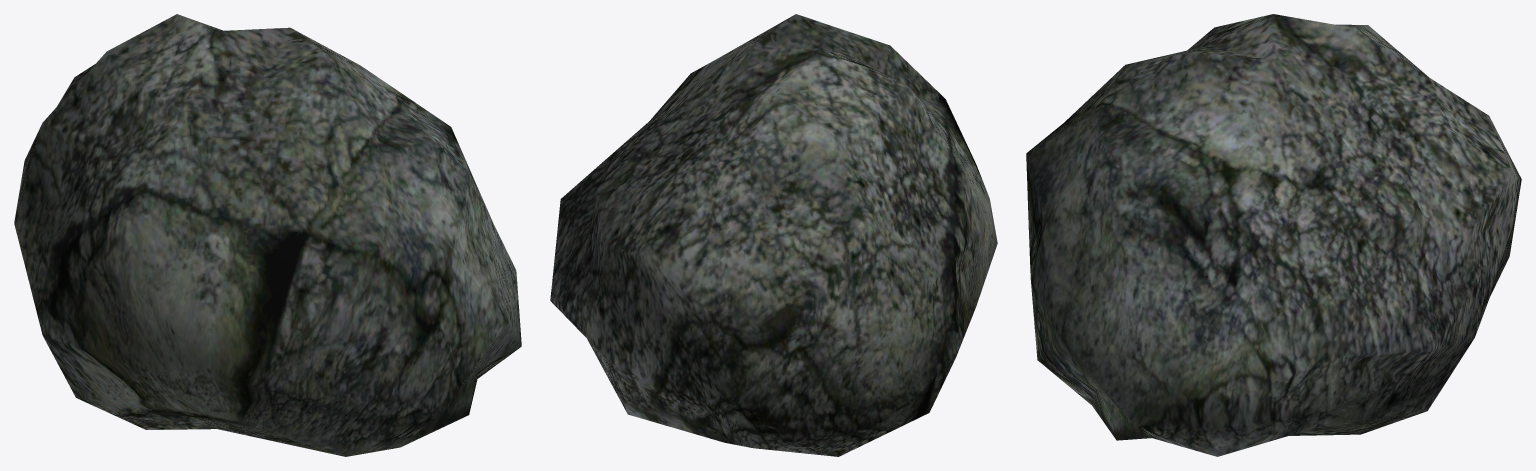
Rendered from rock_large01.dae.
The picture shows the model from 3 angles, left to right: view 1: azimuth 30°, elevation 25°; view 2: azimuth 150°, elevation 25°; view 3: azimuth 270°, elevation 25°; orthographic projection. The views are drawn at different scales.
Visible parts, largest first — view 1: stone_large01_mesh; view 2: stone_large01_mesh; view 3: stone_large01_mesh.
Boxes of the visible parts, x1,y1,x2,y2 form: stone_large01_mesh: (14,14,521,456); stone_large01_mesh: (550,14,997,456); stone_large01_mesh: (1026,14,1521,456).
Size of the model in its own units: 1.34 by 1.19 by 1.45.
